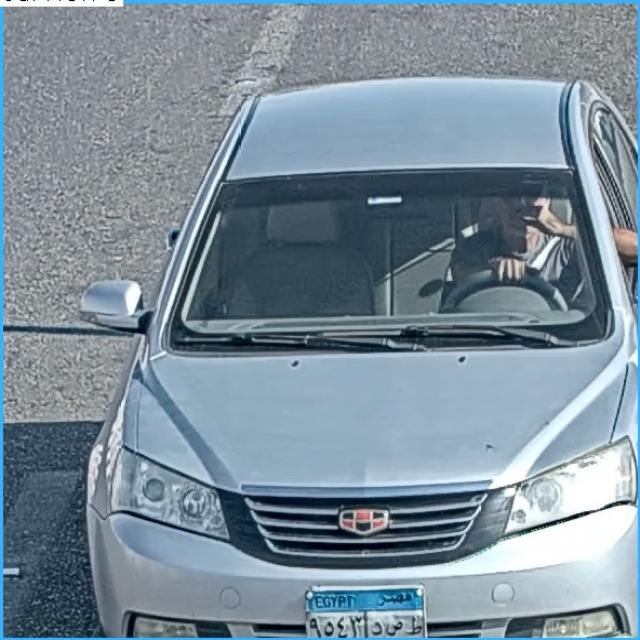windshield: (188, 178, 600, 340)
